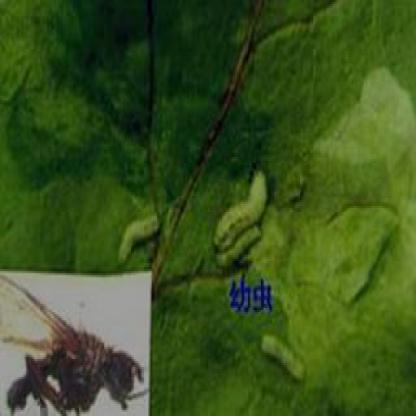whorl-maggot: (209, 158, 279, 270), (257, 316, 308, 386), (120, 211, 164, 263)
